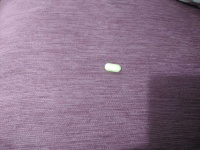Aferin: (104, 62, 122, 73)
